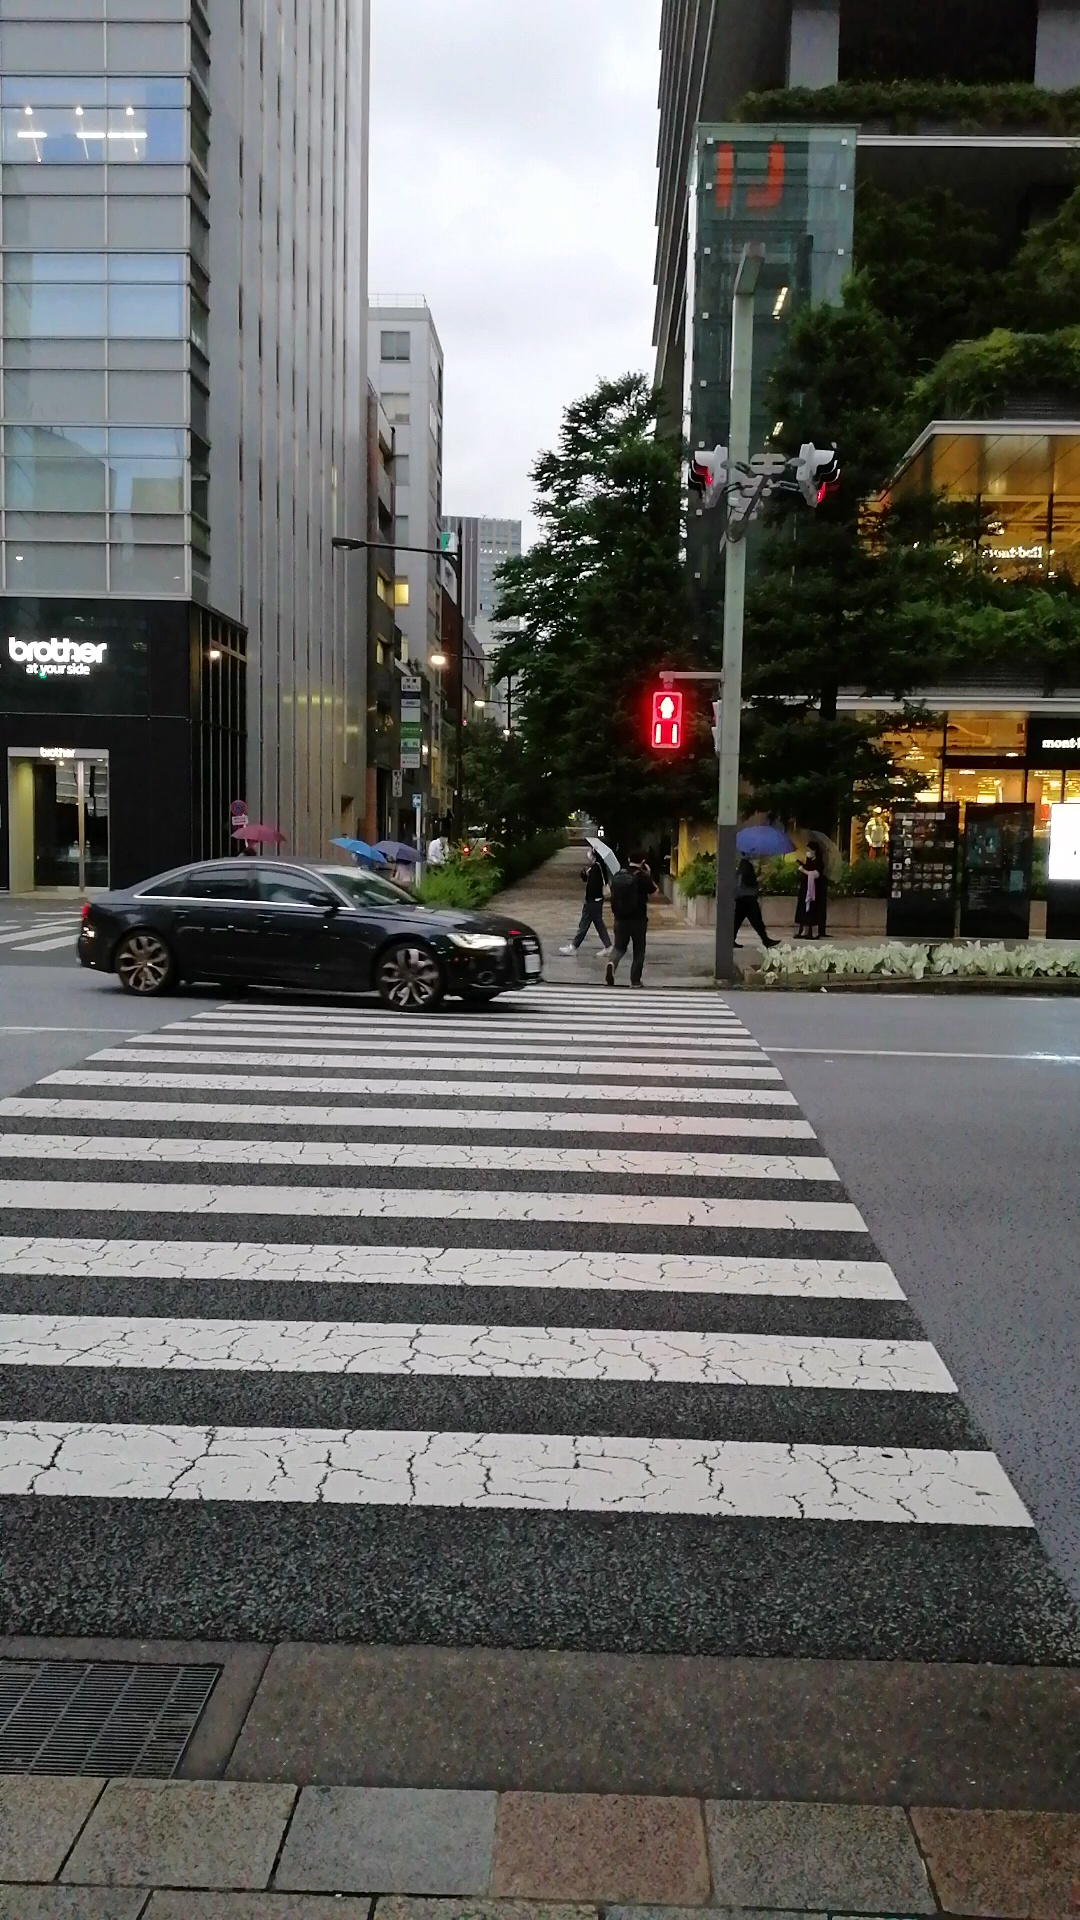red: (647, 688, 683, 750)
